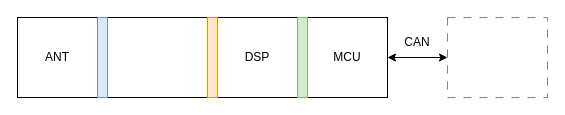
This 565x115 diagram has some shape labels left out. The shapes that lost their labels are listed below. From the top down, each one's centre as x and y in pixels, then its label:
At point 157,57: "TRANSCEIVER".
At point 497,57: "CubeSat modules".
